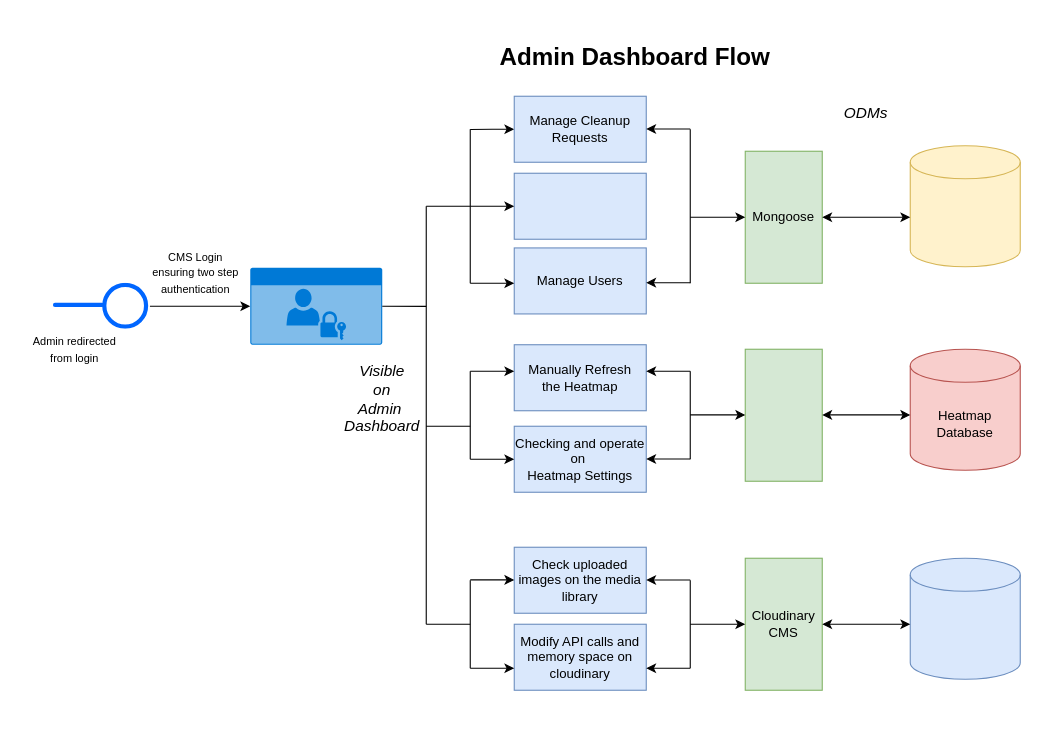
This 1062x743 diagram has some shape labels left out. The centre of each missing label's shape, as x and y in pixels:
"Admin CMS" belongs at point 316,305.
"App Database" belongs at point 964,206.
"Cloudinary Database" belongs at point 964,618.
"Heatmap API or Web Dashboard" belongs at point 783,414.
"Manage model output" belongs at point 579,205.
